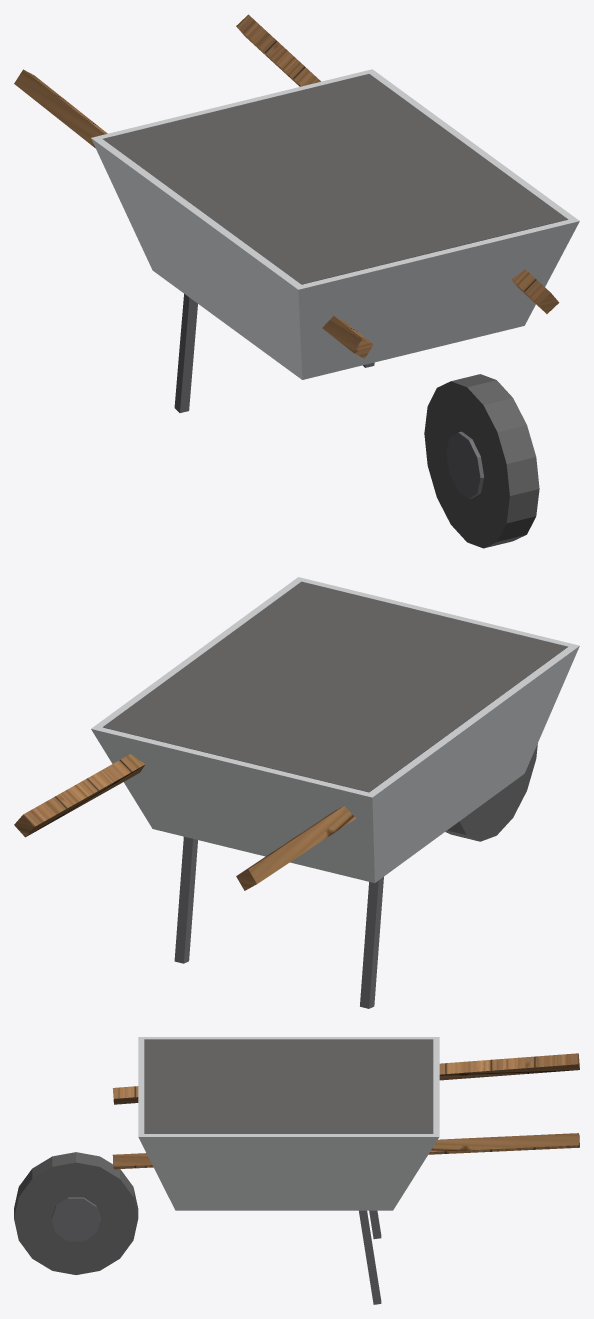
File: wheelbarrow.glb
3 views of the same model, one above another, from view 1: azimuth 30°, elevation 25°; view 2: azimuth 150°, elevation 25°; view 3: azimuth 270°, elevation 25° (orthographic). The views are drawn at different scales.
Visible parts, largest first — view 1: wheelbarrow_dark, wheelbarrow_galv, wheelbarrow_rubber, wheelbarrow_wood, wheelbarrow_iron; view 2: wheelbarrow_dark, wheelbarrow_galv, wheelbarrow_wood, wheelbarrow_iron, wheelbarrow_rubber; view 3: wheelbarrow_dark, wheelbarrow_galv, wheelbarrow_rubber, wheelbarrow_wood, wheelbarrow_iron.
Part boxes in pixels (x1,y1,x2,y2): wheelbarrow_dark: (103, 74, 567, 284); wheelbarrow_galv: (91, 69, 579, 379); wheelbarrow_rubber: (424, 374, 539, 548); wheelbarrow_wood: (14, 14, 559, 358); wheelbarrow_iron: (174, 294, 484, 498); wheelbarrow_dark: (103, 581, 567, 792); wheelbarrow_galv: (91, 577, 579, 882); wheelbarrow_wood: (14, 754, 355, 890); wheelbarrow_iron: (174, 836, 383, 1008); wheelbarrow_rubber: (445, 743, 537, 841); wheelbarrow_dark: (144, 1039, 433, 1133); wheelbarrow_galv: (138, 1037, 439, 1210); wheelbarrow_rubber: (14, 1152, 138, 1274); wheelbarrow_wood: (112, 1053, 579, 1169); wheelbarrow_iron: (51, 1197, 381, 1304).
Bounding box in the file's own units: 0.76 × 0.6528 × 1.82.
Materials: 5 (1 with a texture image).
